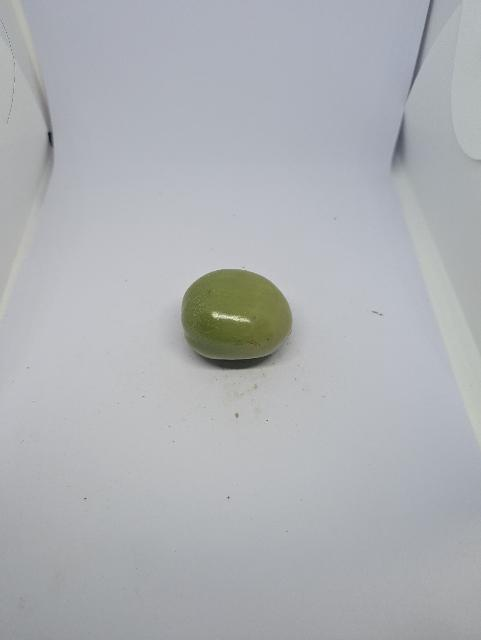green: (178, 267, 296, 363)
